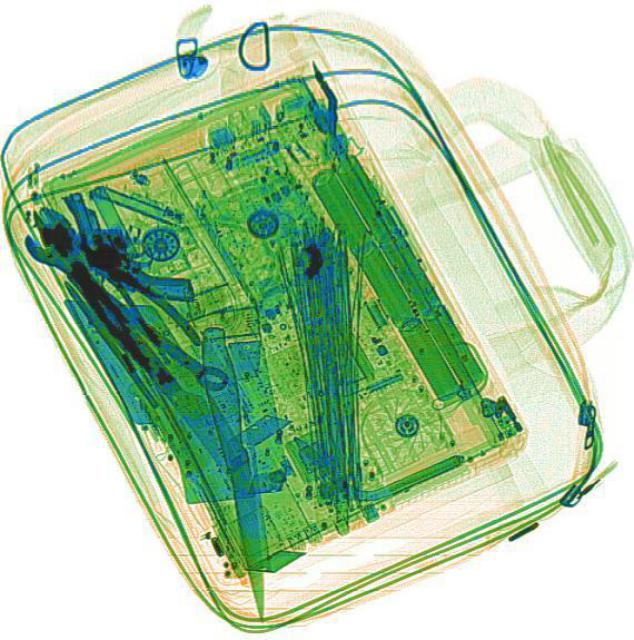Gun: (61, 168, 194, 320)
Knife: (69, 259, 278, 505), (195, 323, 276, 619)
Wrench: (9, 202, 240, 402)
